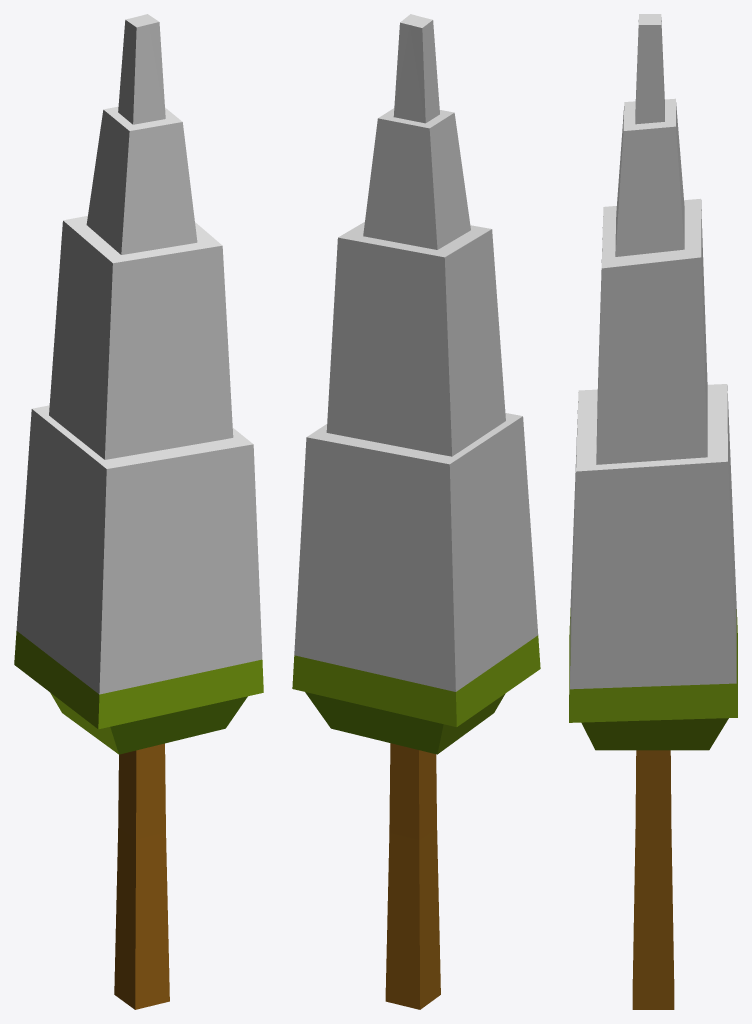
Rendered from SF_Env_Tree_Snow_02.fbx.
3 views of the same model, side by side, from view 1: azimuth 30°, elevation 25°; view 2: azimuth 150°, elevation 25°; view 3: azimuth 270°, elevation 25° (orthographic).
Visible parts, largest first — view 1: SF_Env_Tree_Snow_02; view 2: SF_Env_Tree_Snow_02; view 3: SF_Env_Tree_Snow_02.
Boxes of the visible parts, x1,y1,x2,y2 form: SF_Env_Tree_Snow_02: (14,14,263,1009); SF_Env_Tree_Snow_02: (292,14,540,1009); SF_Env_Tree_Snow_02: (569,14,737,1009).
Bounding box in the file's own units: 2.28 × 12.92 × 2.01.
